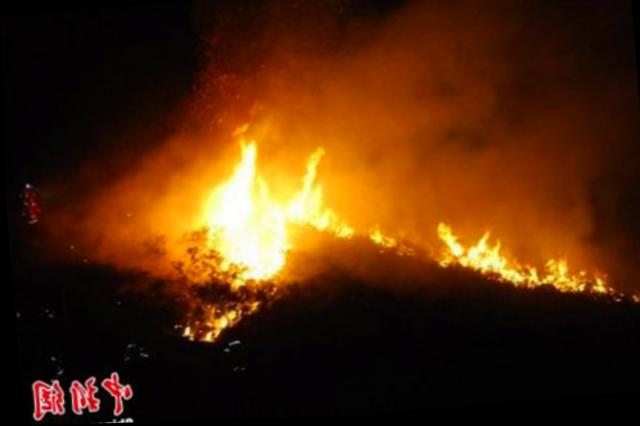fire: (161, 120, 399, 348), (432, 200, 628, 313)
